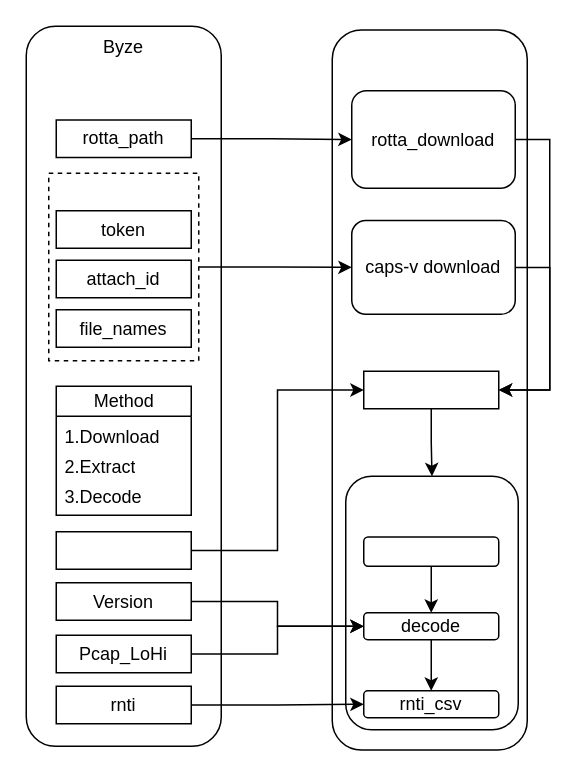
Image size: 588x777. Some labels were removed from this diagram. Each missing label, with the box of its shape:
caps-v: (47, 172, 199, 361)
extract: (362, 536, 499, 566)
File: (362, 370, 499, 409)
Jenkins: (331, 28, 527, 750)
snapshot_debug: (344, 475, 518, 730)
ZipFiles: (55, 530, 191, 569)
